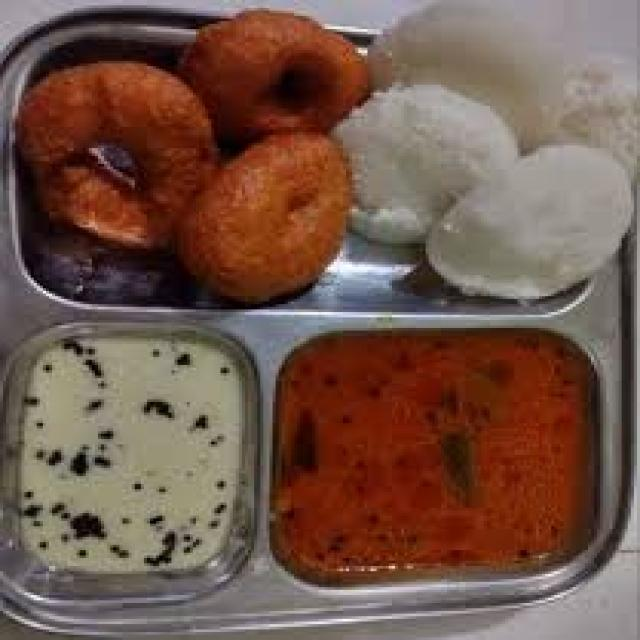IDLI: (336, 0, 637, 294)
MEDU VADA: (14, 13, 372, 302)
